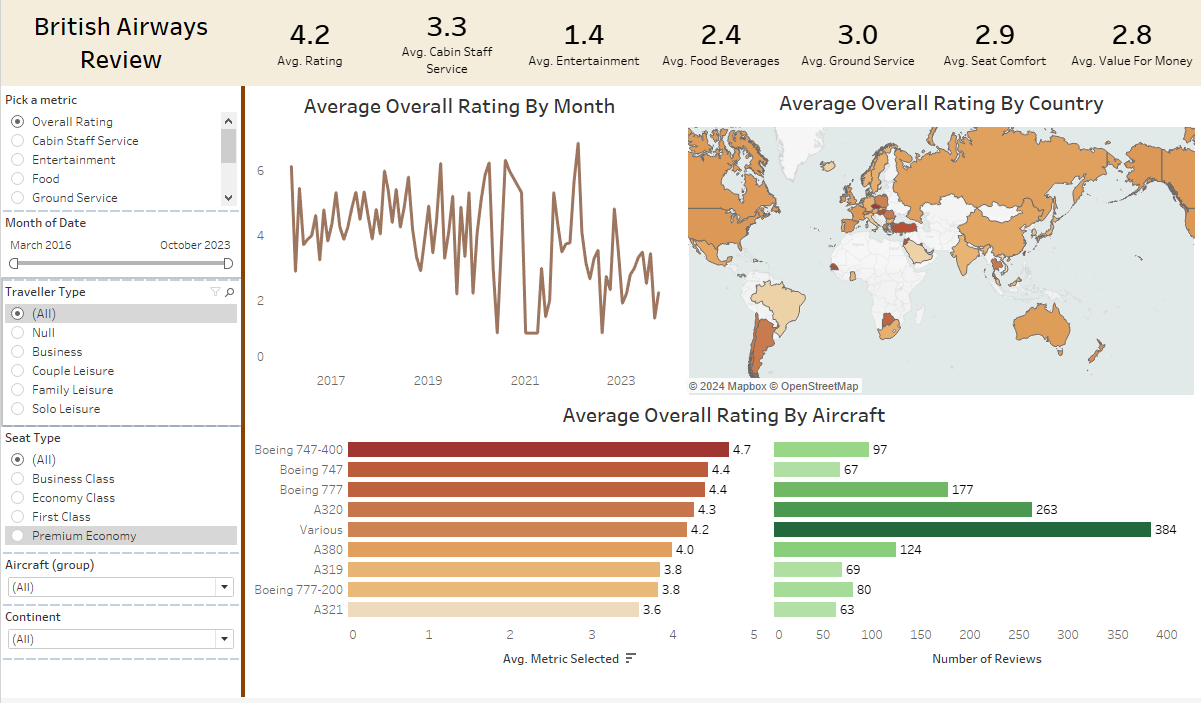

This screenshot's page, from the dashboard's own definition file:
{"tool":"tableau","page":{"name":"Dashboard 1","canvas":[1200,700],"ordinal":0},"visuals":[{"type":"text","box":[0,0,240,87.5]},{"type":"worksheet","title":"Summary","mark":"Automatic","box":[240,0,960,87.5]},{"type":"worksheet","title":"Map","mark":"Automatic","box":[682,86,517,311]},{"type":"blank","box":[240,87.5,3.6,611.6]},{"type":"worksheet","title":"Month","mark":"Automatic","rows":["Calculation_1031605798242111488"],"cols":["date"],"box":[240,89,437,308]},{"type":"parameter","param":"[Parameters].[Parameter 1]","box":[0,89.2,240,123]},{"type":"filter","title":"Map","param":"[federated.1d66x3g07cpoc51gs8lw01s9cnej].[tmn:date:qk]","box":[0,212.3,240,69]},{"type":"filter","title":"Map","param":"[federated.1d66x3g07cpoc51gs8lw01s9cnej].[none:traveller_type:nk]","box":[0,281.3,240,146]},{"type":"worksheet","title":"Aircraft","mark":"Automatic","cols":["Calculation_1031605798242111488","ba_reviews.csv_D24FE873D52A4CFE92FCC688B86C6A6F"],"box":[247,398,952,302]},{"type":"filter","title":"Map","param":"[federated.1d66x3g07cpoc51gs8lw01s9cnej].[none:seat_type:nk]","box":[0,427.3,240,127]},{"type":"filter","title":"Map","param":"[federated.1d66x3g07cpoc51gs8lw01s9cnej].[Aircraft (group)]","box":[0,554.3,240,52]},{"type":"filter","title":"Map","param":"[federated.1d66x3g07cpoc51gs8lw01s9cnej].[none:Continent:nk]","box":[0,606.3,240,54]}]}

Visuals, with their boxes in screenshot pixels (x1, y1, x2, y2), scaled from the page's 1200x700 canvas onto the 1201x703 screenshot:
text: bbox=[0, 0, 240, 88]
"Summary" worksheet: bbox=[240, 0, 1200, 88]
"Map" worksheet: bbox=[683, 86, 1200, 399]
blank: bbox=[240, 88, 244, 702]
"Month" worksheet: bbox=[240, 89, 678, 399]
parameter: bbox=[0, 90, 240, 213]
"Map" filter: bbox=[0, 213, 240, 283]
"Map" filter: bbox=[0, 283, 240, 429]
"Aircraft" worksheet: bbox=[247, 400, 1200, 702]
"Map" filter: bbox=[0, 429, 240, 557]
"Map" filter: bbox=[0, 557, 240, 609]
"Map" filter: bbox=[0, 609, 240, 663]
